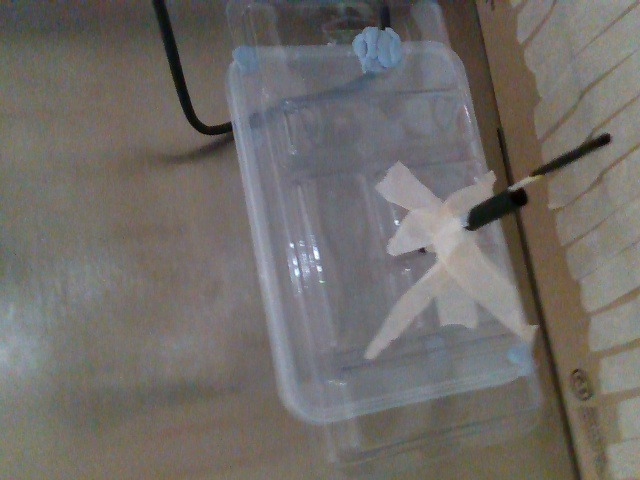test_strip: (508, 132, 610, 192)
